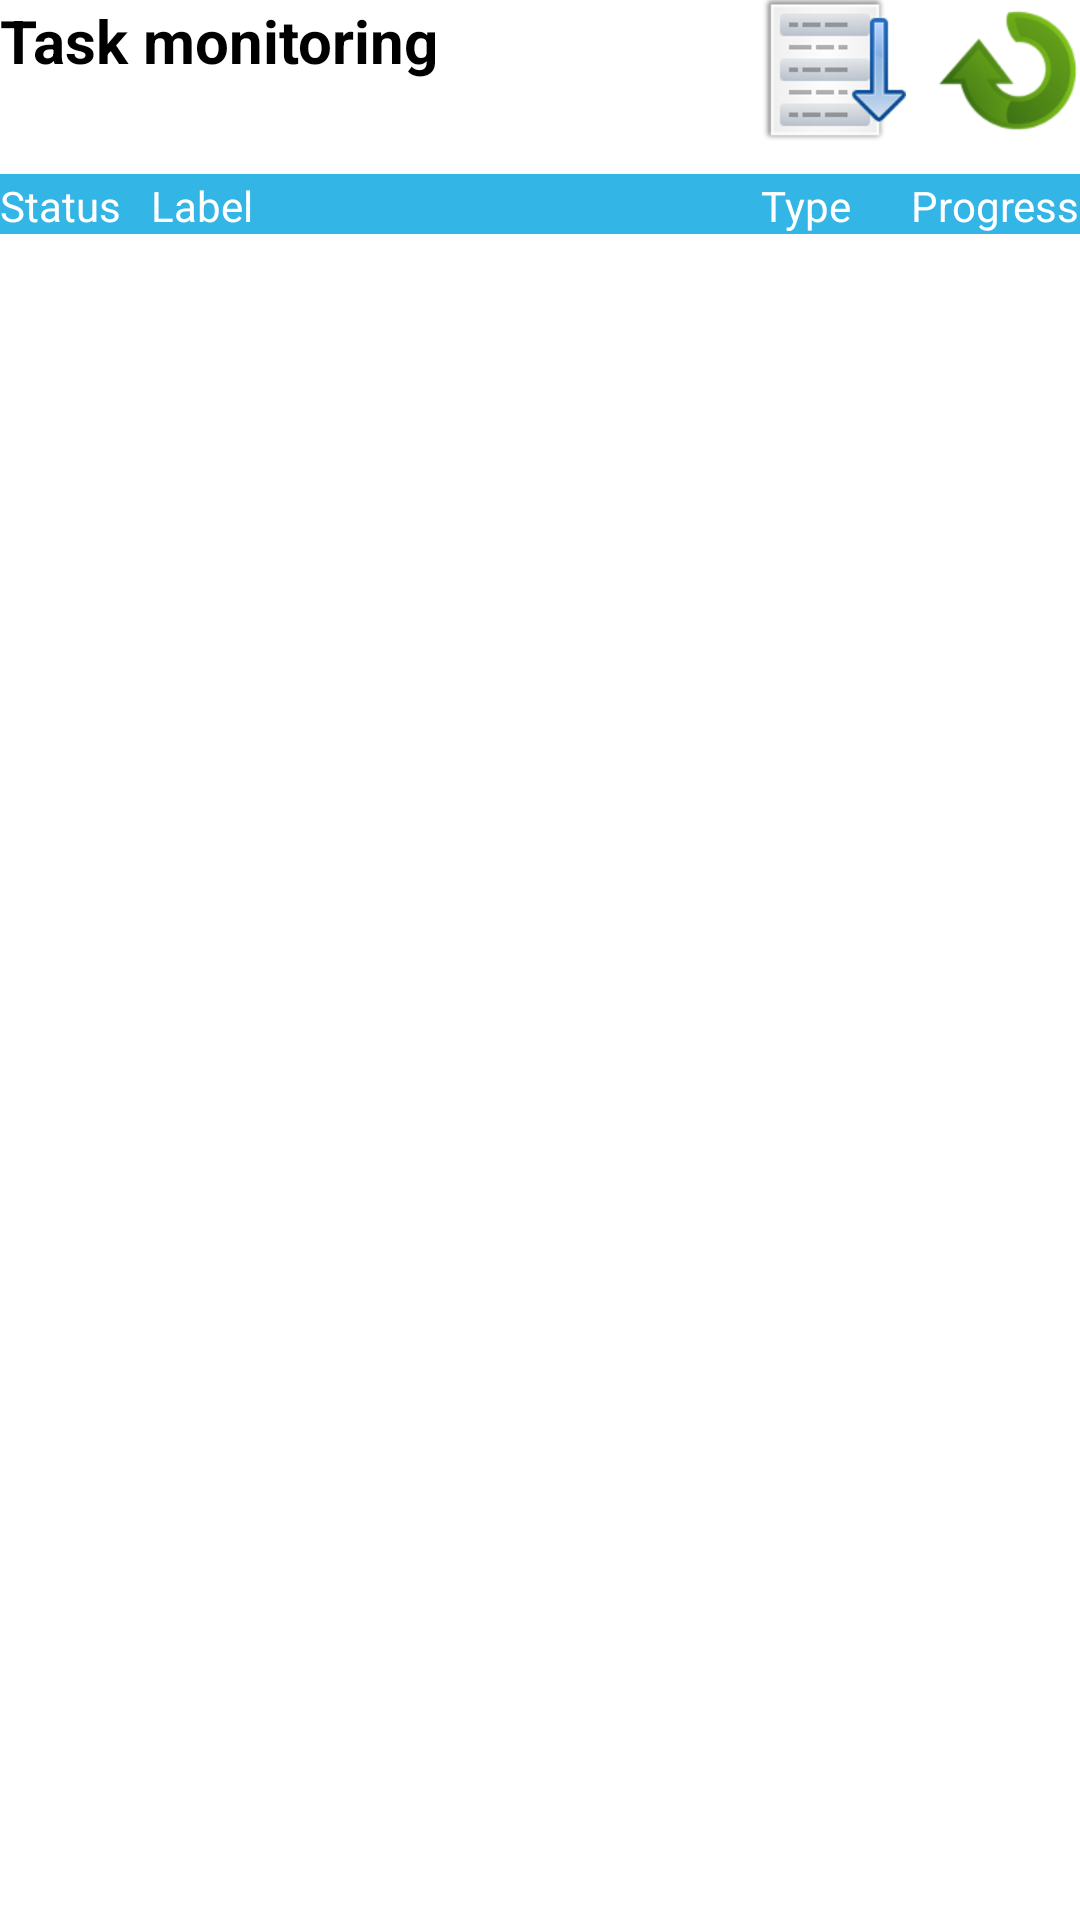

Locate icon controls on the screen. Image size 1080w x 1920h, boxes as (x1, y1, x2, y2).
refresh tasks: (939, 11, 1077, 130)
